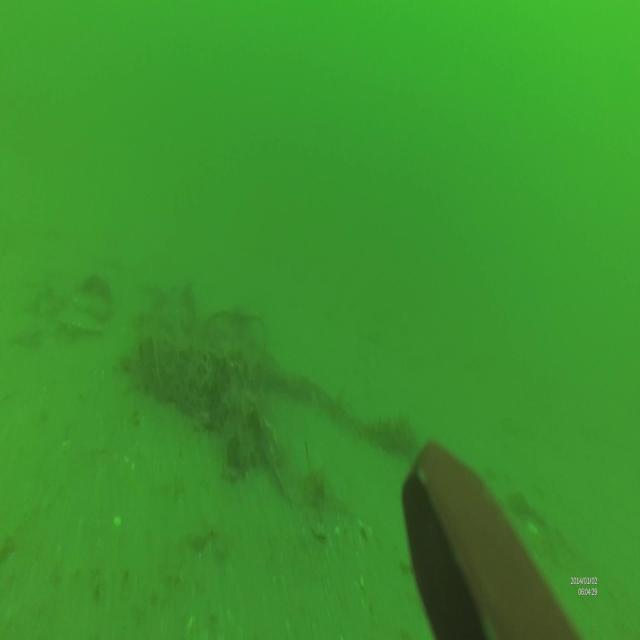scallop: (58, 302, 106, 332), (73, 292, 107, 316)
